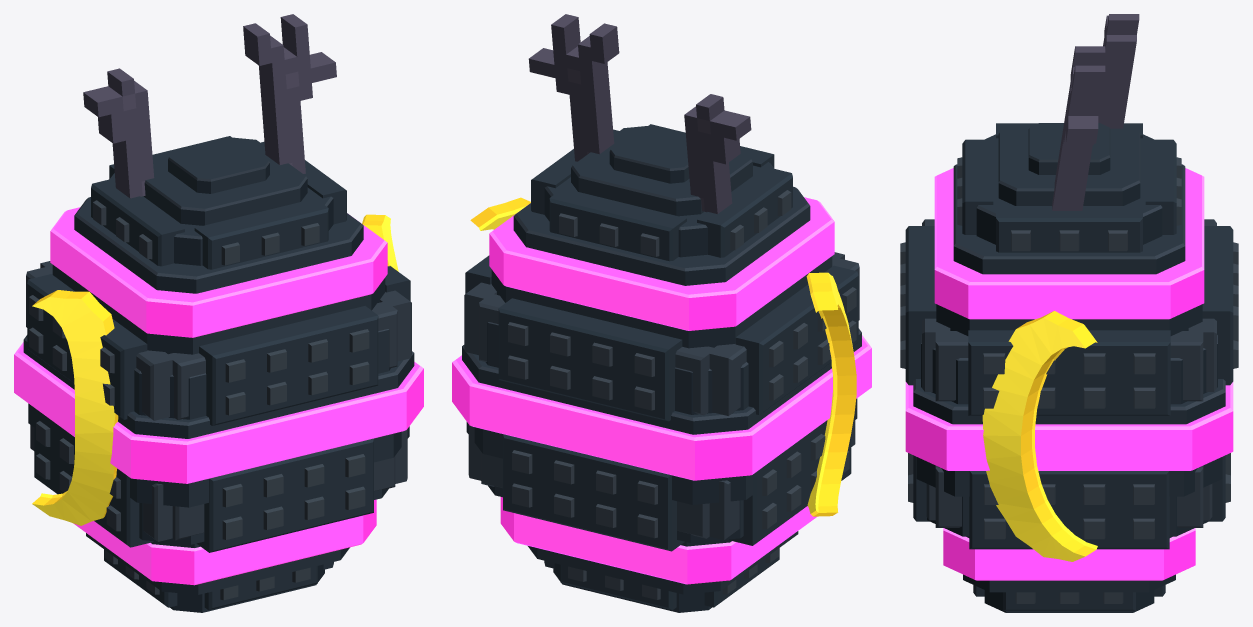
The model's file is Neon Crescent Egg.fbx.
The picture shows the model from 3 angles, left to right: view 1: azimuth 30°, elevation 25°; view 2: azimuth 150°, elevation 25°; view 3: azimuth 270°, elevation 25°; orthographic projection. The views are drawn at different scales.
Visible parts, largest first — view 1: Continuous neon band 2, Continuous neon band 3, Face 1 | armor plate 3, Left | Crescent moon, Face 1 | armor plate 2, Continuous neon band 1, Right | Branching horn, Armor tier 09, Armor tier 11, Left | Branching horn, Face 1 | armor plate 4, Face 4 | armor plate 3 (+24 smaller); view 2: Continuous neon band 2, Continuous neon band 3, Face 3 | armor plate 3, Face 3 | armor plate 2, Continuous neon band 1, Armor tier 09, Right | Branching horn, Face 4 | armor plate 3, Left | Crescent moon, Armor tier 11, Left | Branching horn, Face 3 | armor plate 4 (+24 smaller); view 3: Continuous neon band 3, Continuous neon band 2, Right | Crescent moon, Face 2 | armor plate 3, Face 2 | armor plate 2, Continuous neon band 1, Armor tier 09, Armor tier 11, Face 2 | armor plate 4, Right | Branching horn, Face 1 | armor plate 3, Face 3 | armor plate 3 (+31 smaller).
Part boxes in pixels (box(x1,y1,x2,y2)): Continuous neon band 2: box(14, 342, 423, 483); Continuous neon band 3: box(50, 207, 387, 337); Face 1 | armor plate 3: box(199, 306, 378, 425); Left | Crescent moon: box(32, 290, 118, 525); Face 1 | armor plate 2: box(196, 438, 373, 552); Continuous neon band 1: box(73, 499, 376, 585); Right | Branching horn: box(243, 14, 336, 173); Armor tier 09: box(74, 197, 363, 293); Armor tier 11: box(143, 137, 307, 225); Left | Branching horn: box(83, 68, 154, 198); Face 1 | armor plate 4: box(194, 198, 328, 269); Face 4 | armor plate 3: box(27, 274, 147, 419); Continuous neon band 2: box(452, 335, 871, 480); Continuous neon band 3: box(489, 197, 834, 330); Face 3 | armor plate 3: box(498, 298, 682, 421); Face 3 | armor plate 2: box(503, 434, 684, 551); Continuous neon band 1: box(500, 497, 816, 584); Armor tier 09: box(513, 186, 810, 285); Right | Branching horn: box(528, 14, 619, 161); Face 4 | armor plate 3: box(735, 265, 858, 414); Left | Crescent moon: box(806, 272, 856, 516); Armor tier 11: box(571, 126, 752, 216); Left | Branching horn: box(684, 94, 751, 213); Face 3 | armor plate 4: box(549, 188, 686, 261); Continuous neon band 3: box(934, 168, 1204, 319); Continuous neon band 2: box(905, 382, 1233, 470); Right | Crescent moon: box(982, 311, 1097, 561); Face 2 | armor plate 3: box(968, 330, 1170, 415); Face 2 | armor plate 2: box(969, 471, 1169, 549); Continuous neon band 1: box(943, 528, 1195, 580); Armor tier 09: box(953, 164, 1185, 274); Armor tier 11: box(998, 124, 1140, 205); Face 2 | armor plate 4: box(996, 206, 1142, 252); Right | Branching horn: box(1052, 46, 1105, 210); Face 1 | armor plate 3: box(905, 226, 936, 385); Face 3 | armor plate 3: box(1202, 226, 1233, 385).
Size of the model in its own units: 246 by 341 by 191.
